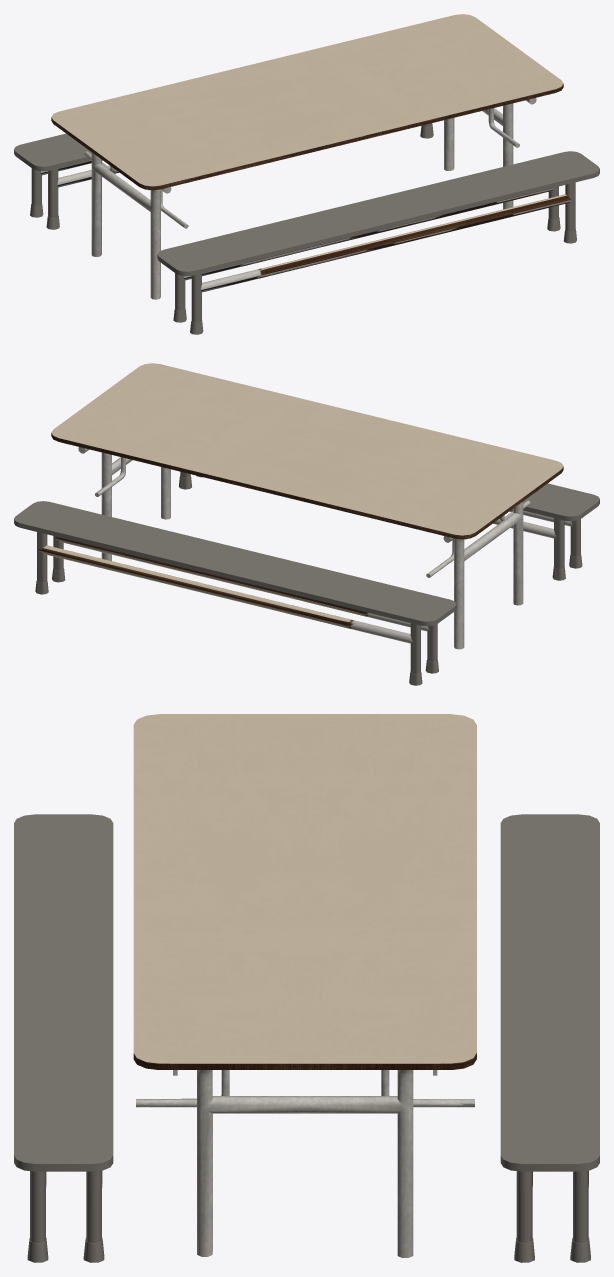
The picture shows the model from 3 angles, top to bottom: view 1: azimuth 30°, elevation 25°; view 2: azimuth 150°, elevation 25°; view 3: azimuth 270°, elevation 25°; orthographic projection. The views are drawn at different scales.
Visible parts, largest first — view 1: cafeteria_table, Цилиндр.001, Цилиндр; view 2: cafeteria_table, Цилиндр, Цилиндр.001; view 3: cafeteria_table, Цилиндр, Цилиндр.001.
Boxes of the visible parts, x1,y1,x2,y2 form: cafeteria_table: (51, 14, 563, 299); Цилиндр.001: (157, 151, 599, 334); Цилиндр: (14, 123, 433, 229); cafeteria_table: (51, 363, 563, 649); Цилиндр: (14, 501, 456, 685); Цилиндр.001: (179, 471, 599, 580); cafeteria_table: (133, 714, 476, 1257); Цилиндр: (500, 814, 599, 1262); Цилиндр.001: (14, 814, 113, 1262).
Size of the model in its own units: 183 by 54.73 by 130.
